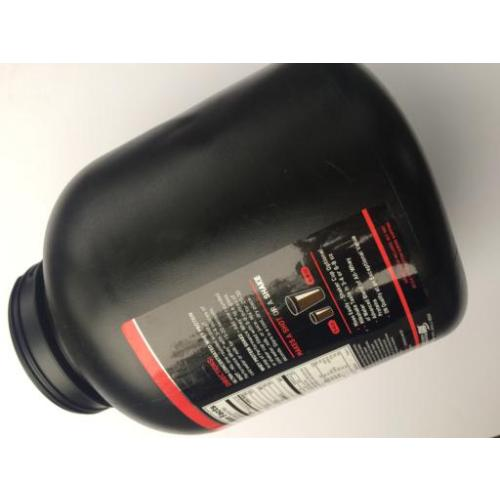plastic: (9, 62, 466, 436)
